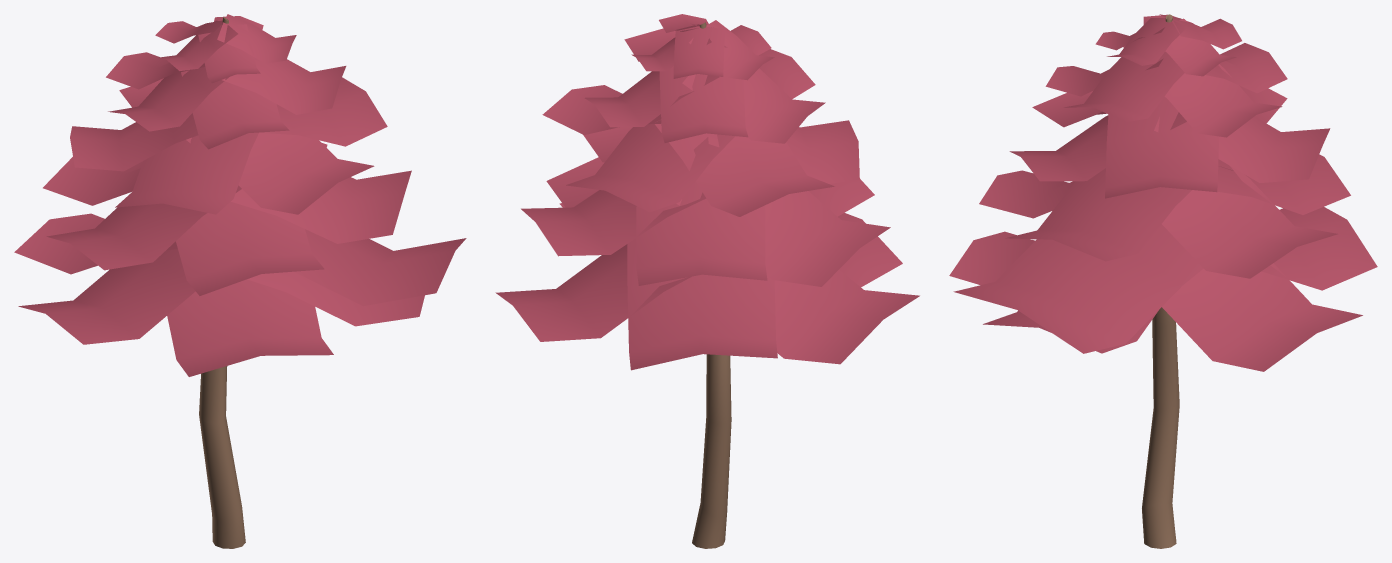
File: Pine_4.glb
The picture shows the model from 3 angles, left to right: view 1: azimuth 30°, elevation 25°; view 2: azimuth 150°, elevation 25°; view 3: azimuth 270°, elevation 25°; orthographic projection.
Visible parts, largest first — view 1: Pine_4; view 2: Pine_4; view 3: Pine_4.
Part boxes in pixels (<box>): Pine_4: <box>14,14,466,548</box>; Pine_4: <box>495,14,919,548</box>; Pine_4: <box>949,14,1377,548</box>.
Size of the model in its own units: 4.31 by 5.67 by 4.18.
